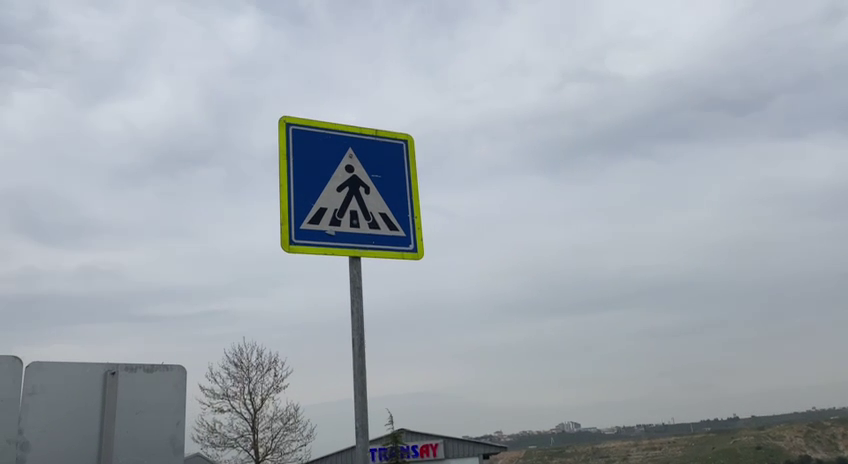pedestrianCrossing: (275, 111, 425, 261)
